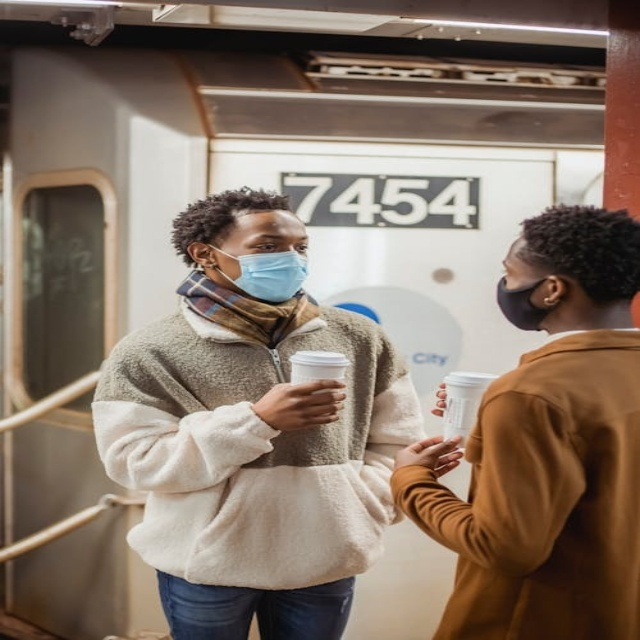Mascara: (208, 243, 308, 302), (495, 276, 554, 331)
Sin_gafas: (237, 231, 311, 255), (494, 255, 538, 281)
Sin_guantes: (255, 378, 357, 431), (394, 435, 463, 479)
